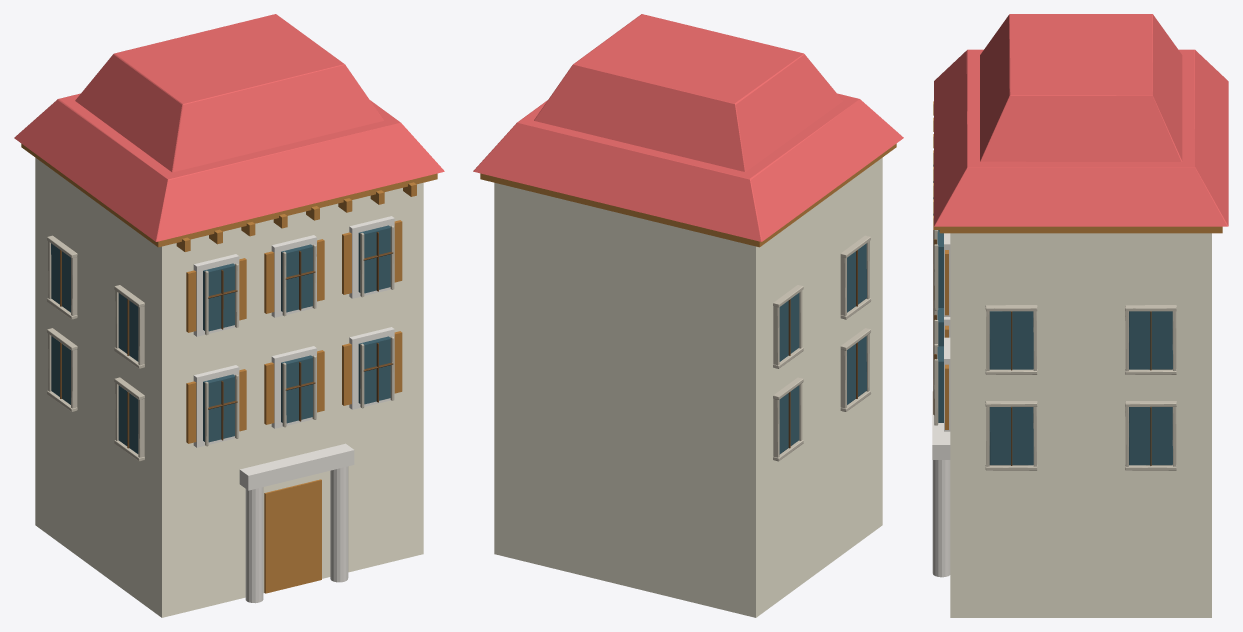
File: city_detail_v2_03-lod.glb
3 views of the same model, side by side, from view 1: azimuth 30°, elevation 25°; view 2: azimuth 150°, elevation 25°; view 3: azimuth 270°, elevation 25° (orthographic). The views are drawn at different scales.
Parts seen in each view (by area): view 1: Exterior architecture detail 3; view 2: Exterior architecture detail 3; view 3: Exterior architecture detail 3.
Part boxes in pixels (<box>): Exterior architecture detail 3: <box>14,14,444,617</box>; Exterior architecture detail 3: <box>473,14,903,617</box>; Exterior architecture detail 3: <box>932,14,1228,617</box>.
Size of the model in its own units: 8.18 by 13 by 7.02.
